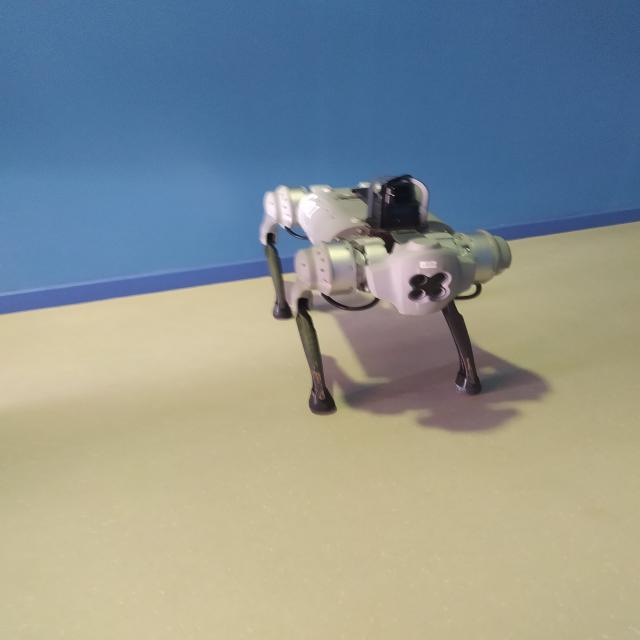unitree-go1-robot: (237, 161, 524, 417)
